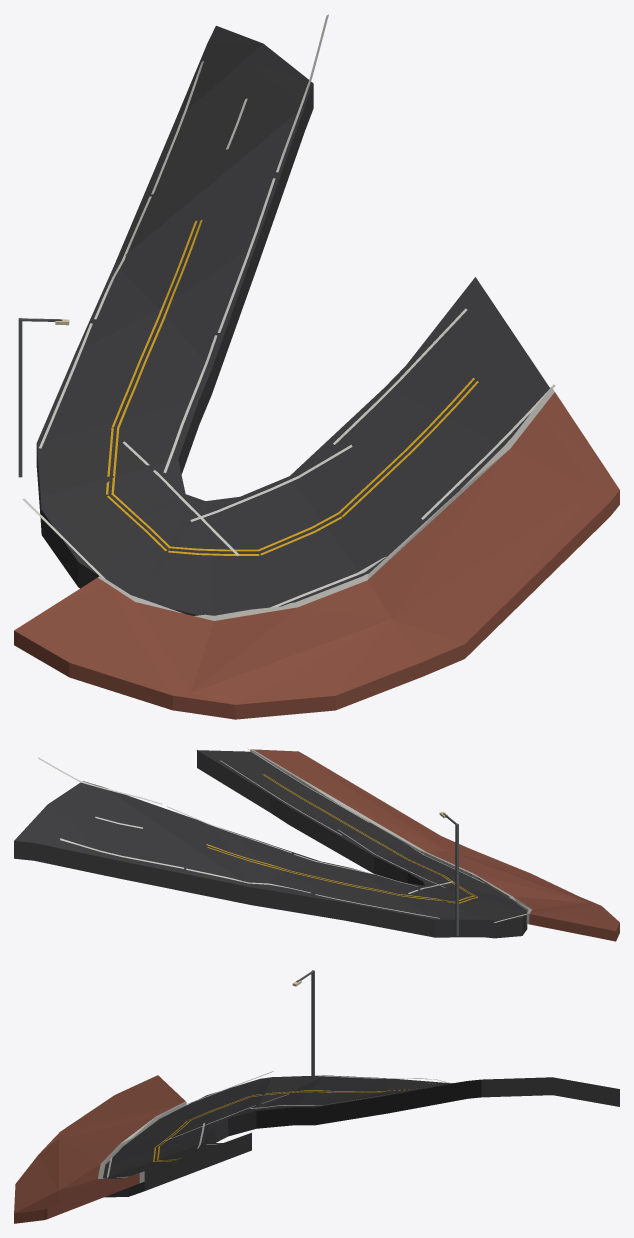
3 views of the same model, one above another, from view 1: azimuth 30°, elevation 25°; view 2: azimuth 150°, elevation 25°; view 3: azimuth 270°, elevation 25° (orthographic). The views are drawn at different scales.
Size of the model in its own units: 28.22 by 16.82 by 36.82.
